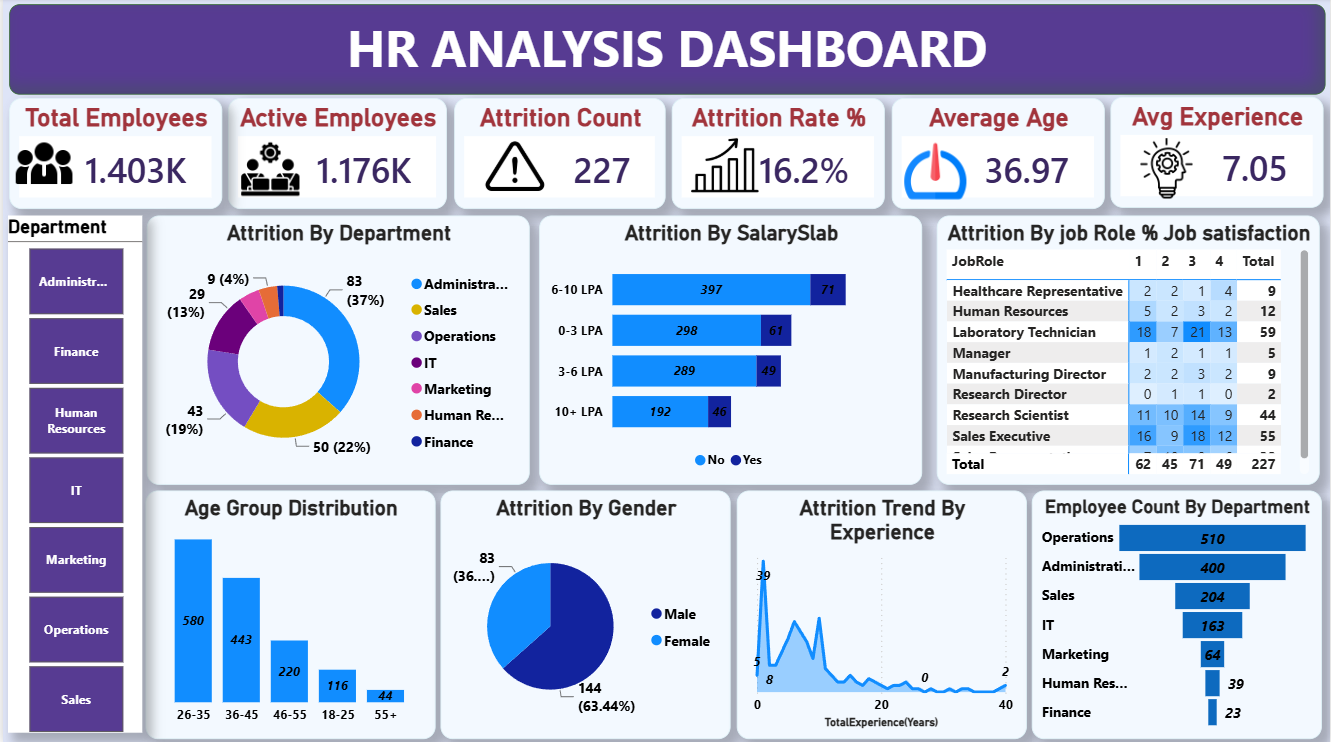

The page's visual inventory and layout, read from the dashboard file:
{"tool":"powerbi","page":{"name":"Page 1","canvas":[1280,720],"ordinal":0},"visuals":[{"type":"textbox","box":[5.7,5.7,1270,86.9],"z":0},{"type":"cardVisual","title":"Active Employees","fields":{"Data":["CountNonNull(Hr.EmployeeCount)"]},"box":[218.4,97.7,211.1,107.4],"z":1000},{"type":"cardVisual","title":"Attrition Count","fields":{"Data":["Sum(Hr.Attrition Count)"]},"box":[435.3,97.1,204.1,107],"z":2000},{"type":"cardVisual","title":"Attrition Rate %","fields":{"Data":["Hr.Attrition rate %"]},"box":[645.1,97.1,205.5,107],"z":3000},{"type":"cardVisual","title":"Average Age","fields":{"Data":["Avg(Hr.Age)"]},"box":[857.8,97.1,205.5,107],"z":4000},{"type":"cardVisual","title":"Avg Experience","fields":{"Data":["Avg(Hr.YearsatCompany)"]},"box":[1069,95.6,205.5,107],"z":5000},{"type":"cardVisual","title":"Total Employees","fields":{"Data":["CountNonNull(Hr.EmpID)"]},"box":[5.7,97.1,205.5,107],"z":6000},{"type":"image","box":[658.7,124.3,76,74.8],"z":7000},{"type":"image","box":[10,129.9,59.9,58.5],"z":8000},{"type":"image","box":[1076.2,135.6,94.2,58.5],"z":9000},{"type":"image","box":[462.4,128.5,64.2,68.5],"z":10000},{"type":"image","box":[869.8,135.1,60.3,63.9],"z":11000},{"type":"image","box":[228.4,135.6,59.9,59.9],"z":12000},{"type":"donutChart","title":"Attrition  By Department","fields":{"Category":["Hr.Department"],"Y":["Sum(Hr.Attrition Count)"]},"box":[138.4,209.8,369.7,259.8],"z":13000},{"type":"barChart","title":"Attrition By SalarySlab","fields":{"Category":["Hr.SalarySlab"],"Y":["CountNonNull(Hr.EmpID)"],"Series":["Hr.Attrition"]},"box":[518.1,209.8,369.7,259.8],"z":14000},{"type":"pivotTable","title":"Attrition By job Role % Job satisfaction","fields":{"Rows":["Hr.JobRole"],"Columns":["Hr.JobSatisfaction"],"Values":["Sum(Hr.Attrition Count)"]},"box":[900.6,209.8,369.7,259.8],"z":15000},{"type":"columnChart","title":"Age Group Distribution","fields":{"Category":["Hr.AgeGroup"],"Y":["Sum(Hr.EmployeeCount)"]},"box":[137,475.3,279.8,239.8],"z":16000},{"type":"pieChart","title":"Attrition By Gender","fields":{"Category":["Hr.Gender"],"Y":["Sum(Hr.Attrition Count)"]},"box":[422.5,475.3,279.8,239.8],"z":17000},{"type":"areaChart","title":"Attrition Trend By Experience","fields":{"Category":["Hr.TotalExperience(Years)"],"Y":["Sum(Hr.Attrition Count)"]},"box":[707.9,475.3,279.8,239.8],"z":18000},{"type":"funnel","title":"Employee Count By Department","fields":{"Category":["Hr.Department"],"Y":["CountNonNull(Hr.EmpID)"]},"box":[993.4,475.3,279.8,239.8],"z":19000},{"type":"slicer","title":"Department","fields":{"Values":["Hr.Department"]},"box":[4.3,209.8,129.9,499.6],"z":20000}]}

Visuals, with their boxes in screenshot pixels (x1, y1, x2, y2), scaled from the page's 1280x720 canvas onto the 1331x742 screenshot:
textbox: (6,6,1327,95)
"Active Employees" cardVisual: (227,101,447,211)
"Attrition Count" cardVisual: (453,100,665,210)
"Attrition Rate %" cardVisual: (671,100,884,210)
"Average Age" cardVisual: (892,100,1106,210)
"Avg Experience" cardVisual: (1112,99,1325,209)
"Total Employees" cardVisual: (6,100,220,210)
image: (685,128,764,205)
image: (10,134,73,194)
image: (1119,140,1217,200)
image: (481,132,548,203)
image: (904,139,967,205)
image: (238,140,300,201)
"Attrition  By Department" donutChart: (144,216,528,484)
"Attrition By SalarySlab" barChart: (539,216,923,484)
"Attrition By job Role % Job satisfaction" pivotTable: (936,216,1321,484)
"Age Group Distribution" columnChart: (142,490,433,737)
"Attrition By Gender" pieChart: (439,490,730,737)
"Attrition Trend By Experience" areaChart: (736,490,1027,737)
"Employee Count By Department" funnel: (1033,490,1324,737)
"Department" slicer: (4,216,140,731)
